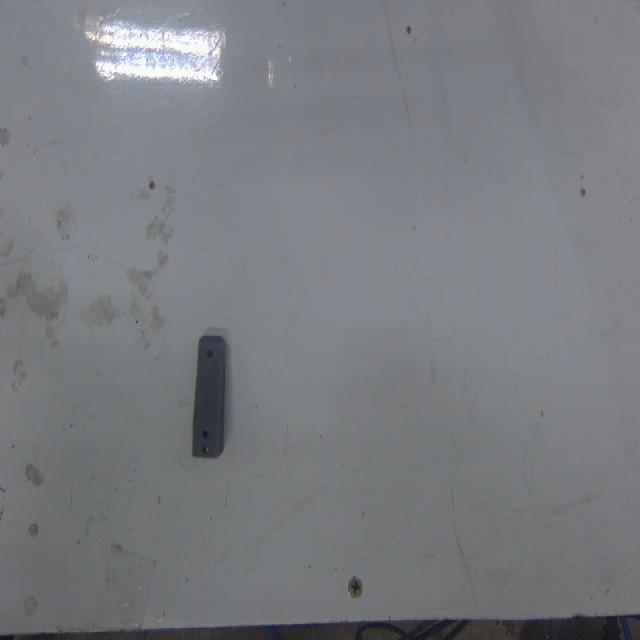grey: (190, 332, 228, 458)
head: (206, 347, 215, 360)
